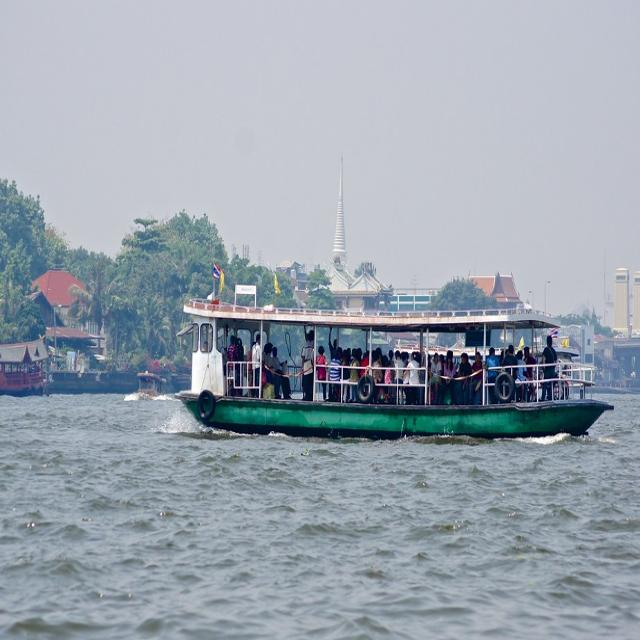houseboat: (181, 272, 607, 450)
